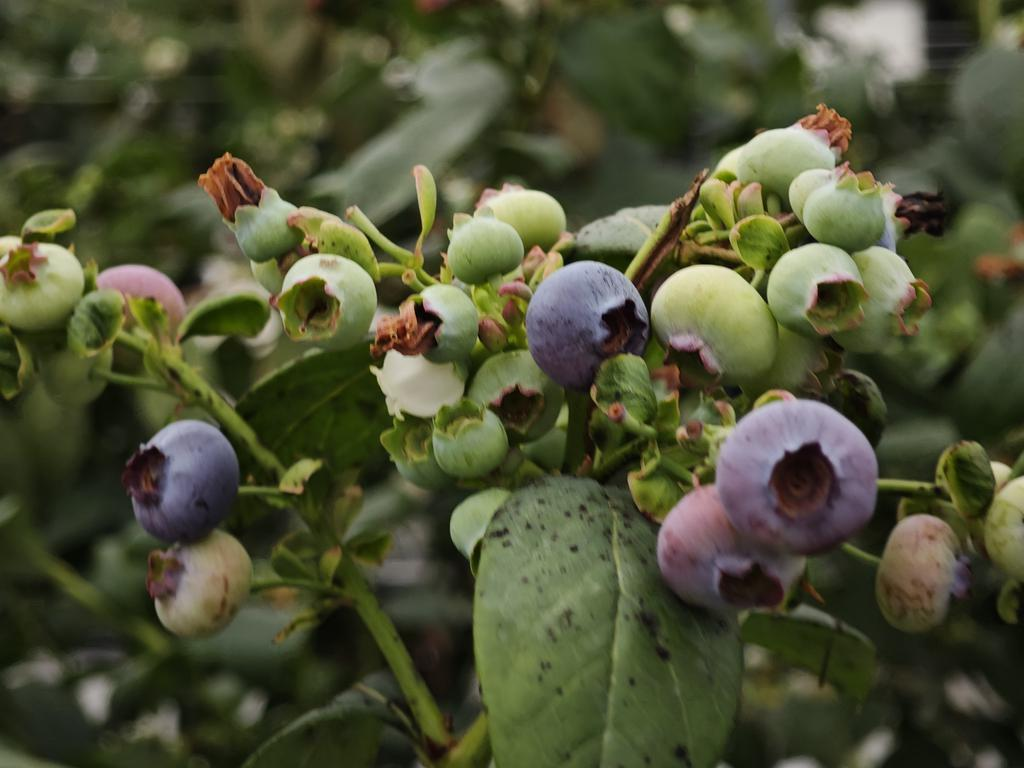RipeBlueBerry: (714, 398, 881, 555), (522, 256, 653, 387), (124, 421, 244, 541)
Semi-RipeBlueBerry: (654, 487, 808, 616)
UnripeBlueBerry: (650, 258, 782, 392), (144, 531, 254, 642), (875, 514, 964, 635)
